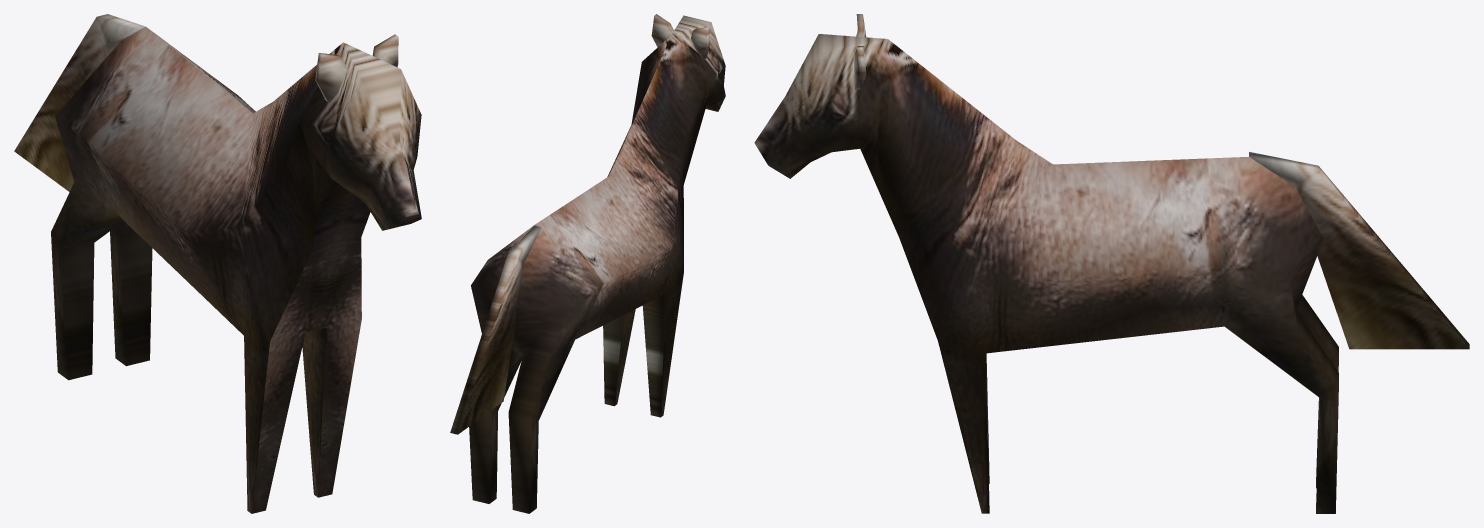
File: horse.001.fbx
3 views of the same model, side by side, from view 1: azimuth 30°, elevation 25°; view 2: azimuth 150°, elevation 25°; view 3: azimuth 270°, elevation 25° (orthographic). The views are drawn at different scales.
Visible parts, largest first — view 1: horse.005; view 2: horse.005; view 3: horse.005.
Part boxes in pixels (x1,y1,x2,y2): horse.005: (14, 14, 421, 513); horse.005: (450, 14, 725, 513); horse.005: (754, 14, 1469, 513).
Bounding box in the file's own units: 74.51 × 228 × 318.
